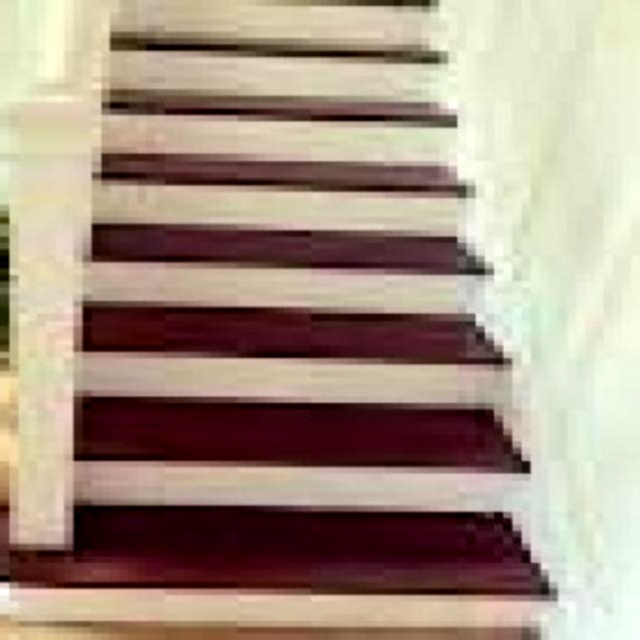stair: (4, 0, 640, 640)
